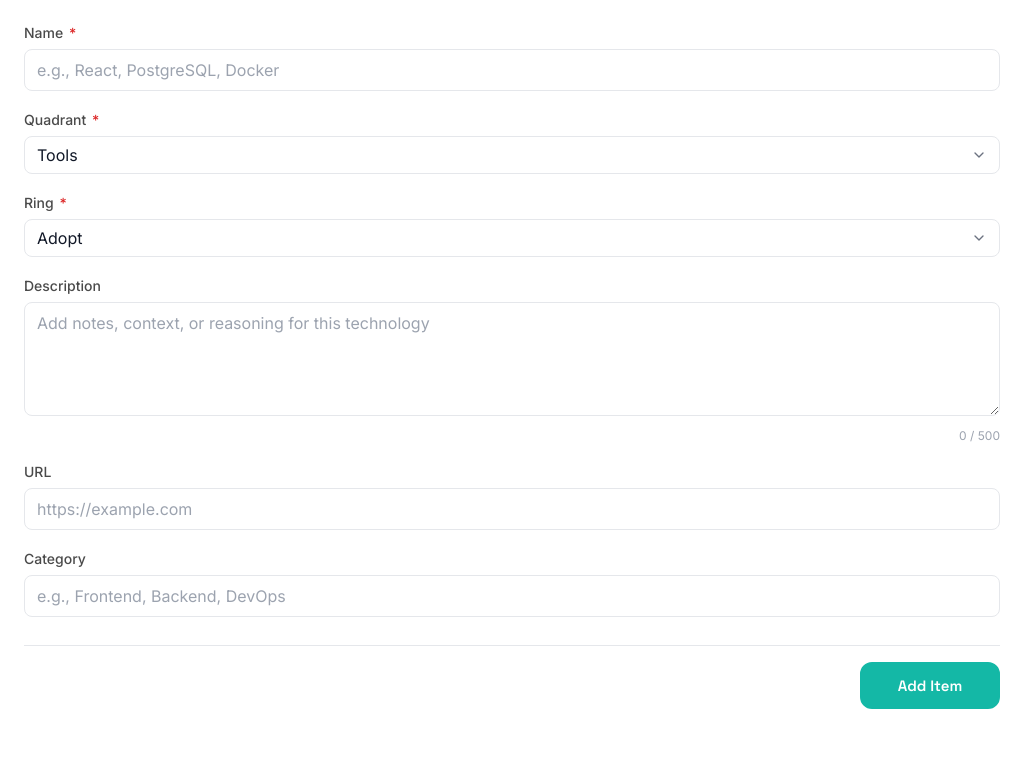
Test: TechItemForm › Form Interactions › should update quadrant dropdown on selection
Click the button named "quadrant".
click(57, 155)  # box [24,136,1000,174]
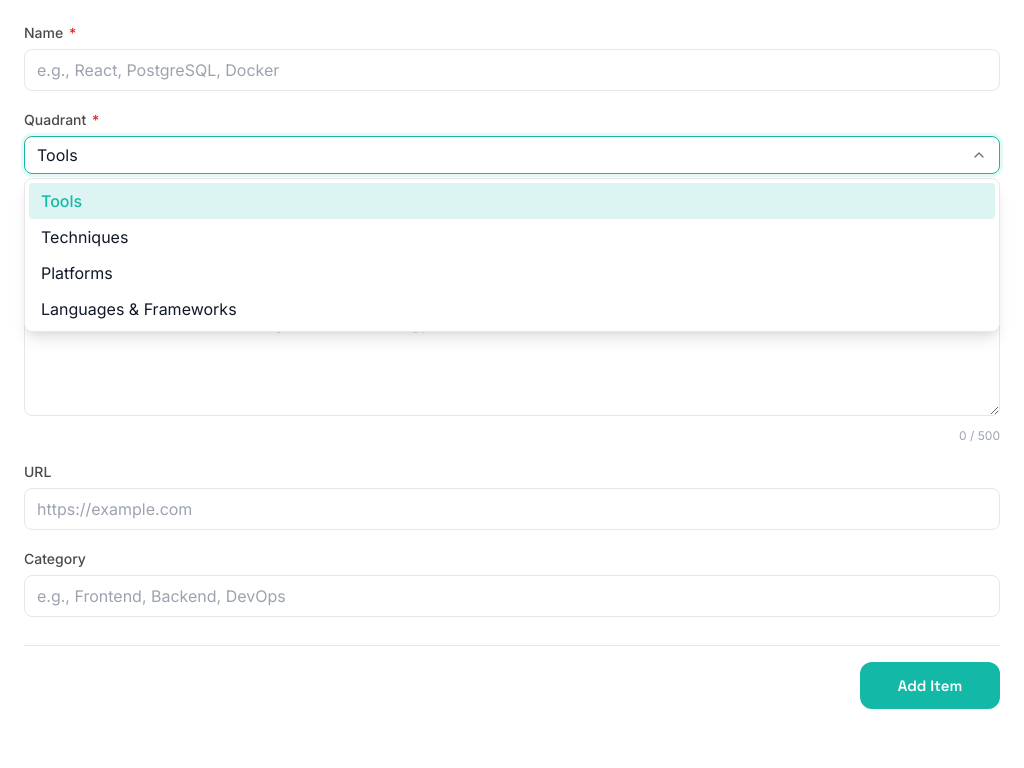
Click the option "Platforms".
click(77, 273)  # box [41,263,113,283]
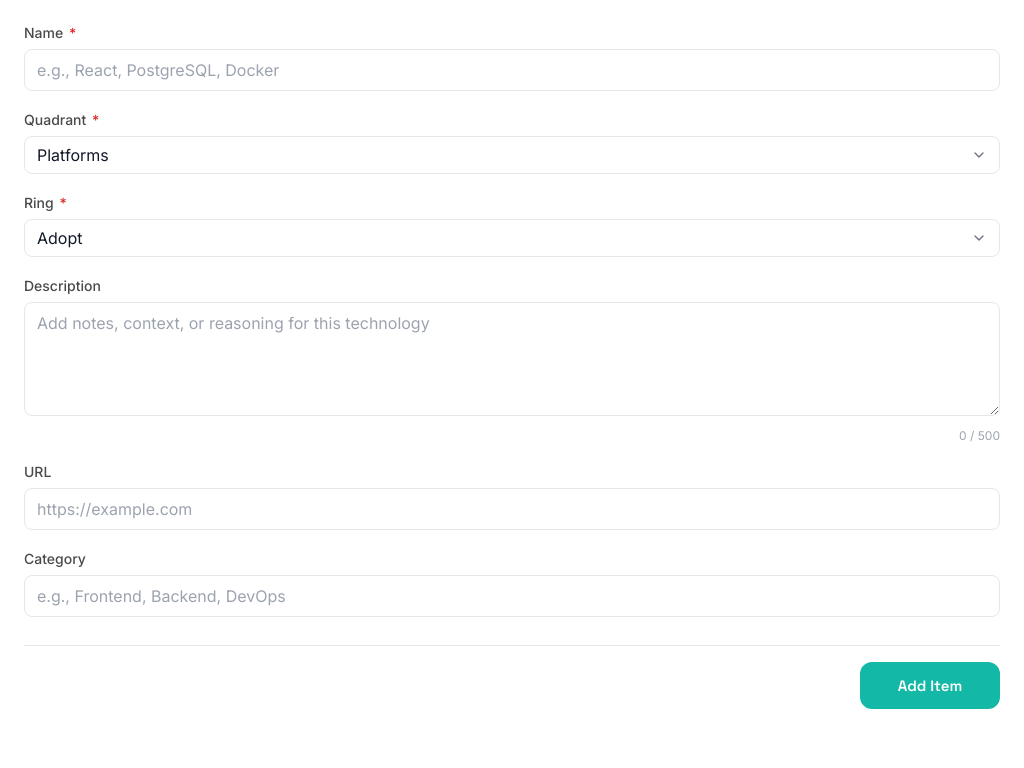
Now the button named "quadrant" reads "Platforms", box [24,136,1000,174]
